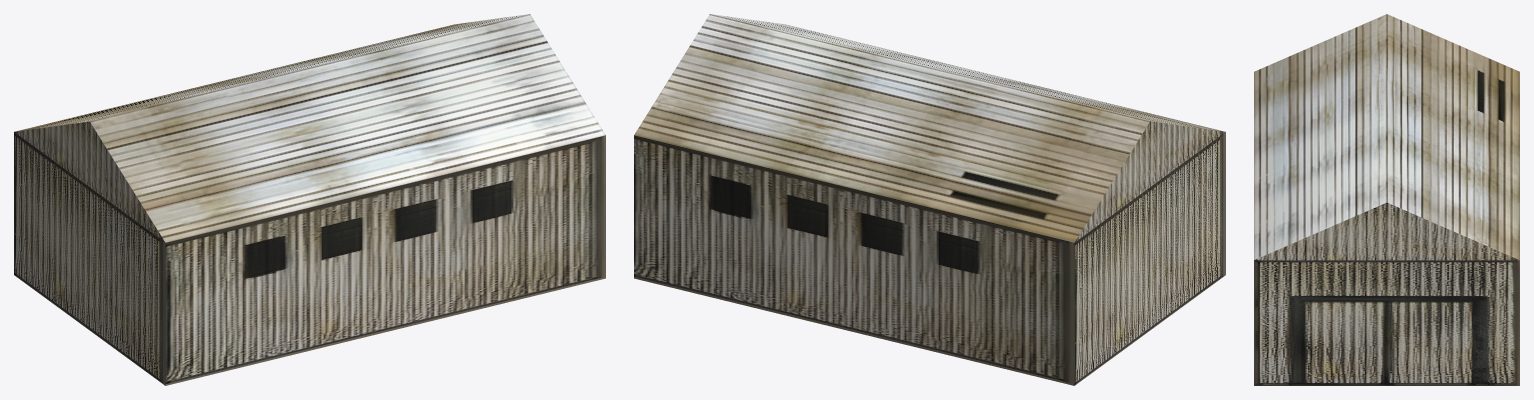
Rendered from bighanger.gltf.
3 views of the same model, side by side, from view 1: azimuth 30°, elevation 25°; view 2: azimuth 150°, elevation 25°; view 3: azimuth 270°, elevation 25° (orthographic). The views are drawn at different scales.
Parts seen in each view (by area): view 1: bighanger_atomic0; view 2: bighanger_atomic0; view 3: bighanger_atomic0.
Part boxes in pixels (x1=…): bighanger_atomic0: x1=14, y1=14, x2=605, y2=385; bighanger_atomic0: x1=634, y1=14, x2=1225, y2=385; bighanger_atomic0: x1=1254, y1=14, x2=1519, y2=385.
Size of the model in its own units: 81.24 by 36.85 by 48.39.
Materials: 1 (1 with a texture image).
